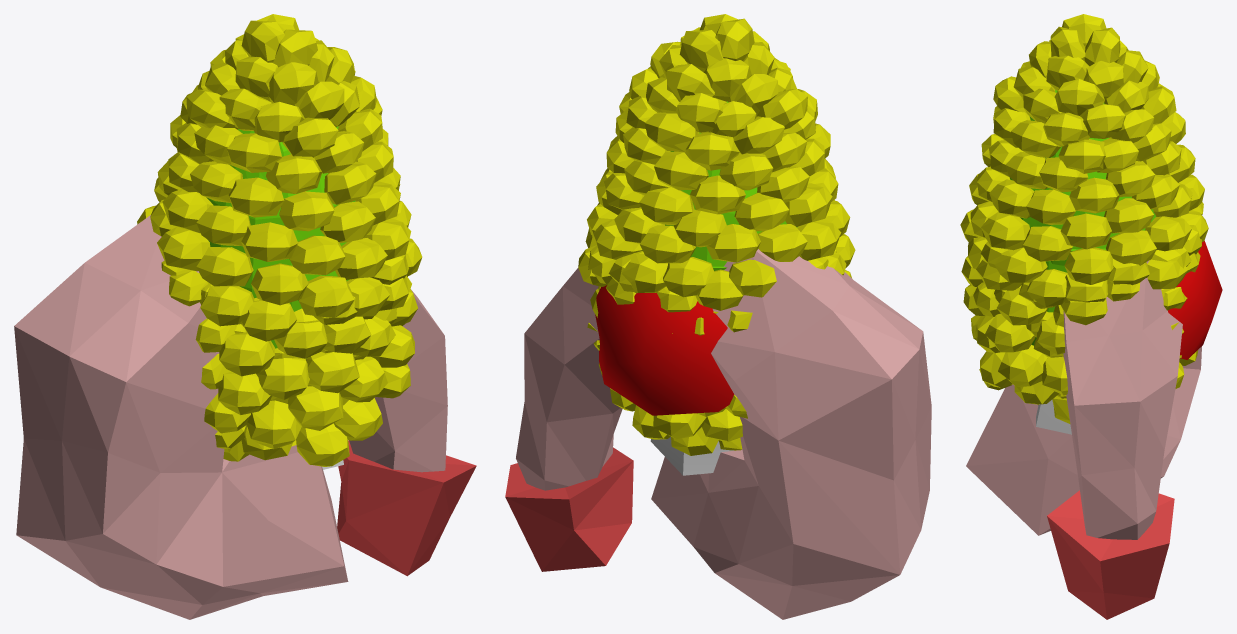
Rendered from Obstacle-Set-1.fbx.
3 renders of one model, left to right at view 1: azimuth 30°, elevation 25°; view 2: azimuth 150°, elevation 25°; view 3: azimuth 270°, elevation 25°, orthographic. The views are drawn at different scales.
Parts seen in each view (by area): view 1: shrimp, Corn-Full, Corn-Half; view 2: shrimp, Corn-Full, mushroom, Corn-Half; view 3: Corn-Full, shrimp, Corn-Half, mushroom.
Part boxes in pixels (x1,y1,x2,y2): shrimp: [14, 215, 476, 619]; Corn-Full: [137, 14, 422, 466]; Corn-Half: [161, 254, 408, 405]; shrimp: [505, 249, 931, 619]; Corn-Full: [578, 14, 855, 455]; mushroom: [595, 285, 734, 475]; Corn-Half: [585, 228, 836, 313]; Corn-Full: [960, 14, 1208, 423]; shrimp: [966, 260, 1201, 619]; Corn-Half: [968, 229, 1201, 398]; mushroom: [1036, 241, 1222, 434].
Size of the model in its own units: 0.2153 by 0.2826 by 0.1272.
